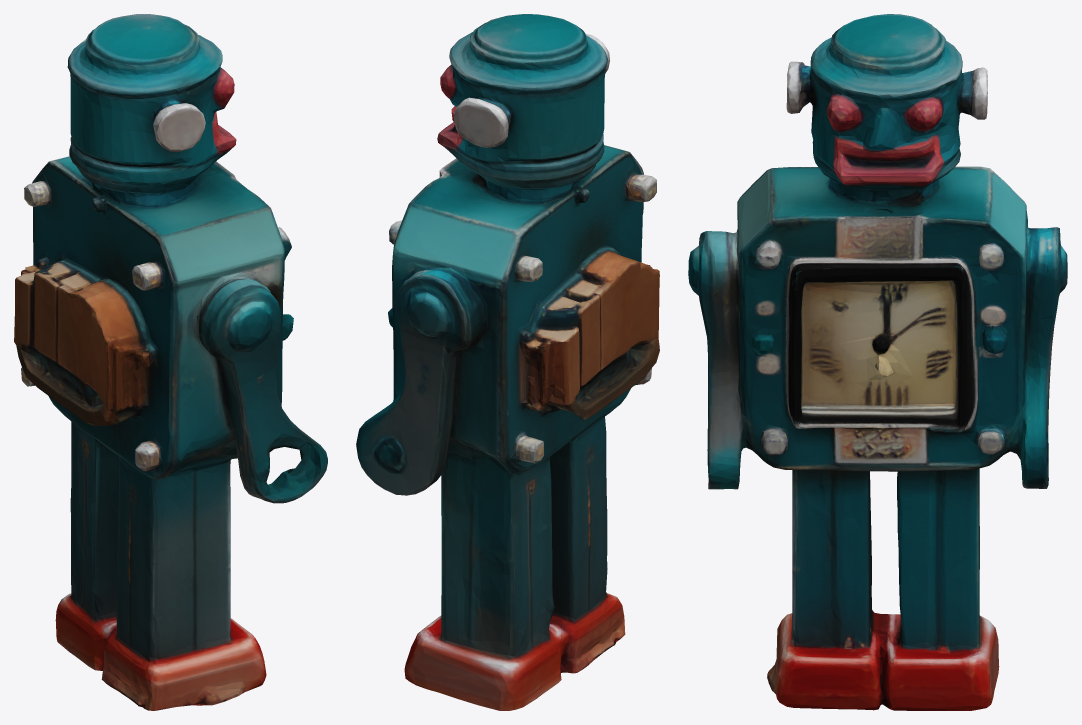
The picture shows the model from 3 angles, left to right: view 1: azimuth 30°, elevation 25°; view 2: azimuth 150°, elevation 25°; view 3: azimuth 270°, elevation 25°; orthographic projection.
Parts seen in each view (by area): view 1: world; view 2: world; view 3: world.
Part boxes in pixels (x1=…): world: x1=14, y1=14, x2=327, y2=710; world: x1=356, y1=14, x2=659, y2=710; world: x1=688, y1=14, x2=1067, y2=710.
Size of the model in its own units: 0.3017 by 1 by 0.5344.
Materials: 1 (1 with a texture image).
